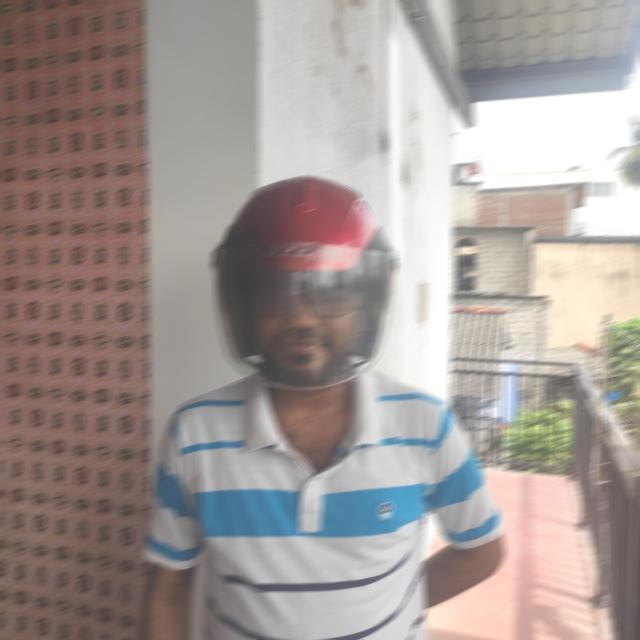With Helmet: (212, 174, 398, 392)
